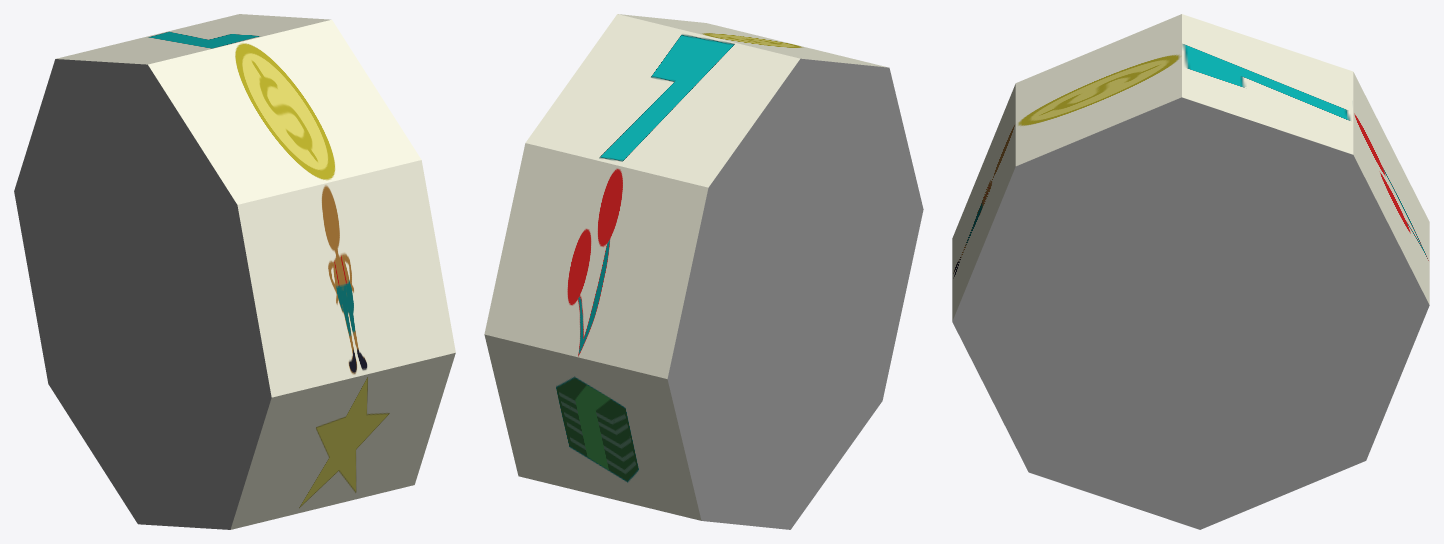
File: winningsSpin.fbx
3 renders of one model, left to right at view 1: azimuth 30°, elevation 25°; view 2: azimuth 150°, elevation 25°; view 3: azimuth 270°, elevation 25°, orthographic. The views are drawn at different scales.
Visible parts, largest first — view 1: pCylinder12; view 2: pCylinder12; view 3: pCylinder12.
Boxes of the visible parts, x1,y1,x2,y2 form: pCylinder12: (14,14,455,529); pCylinder12: (484,14,923,529); pCylinder12: (952,14,1429,529).
Bounding box in the file's own units: 0.8252 × 2 × 2.
Materials: 9 (8 with a texture image).
